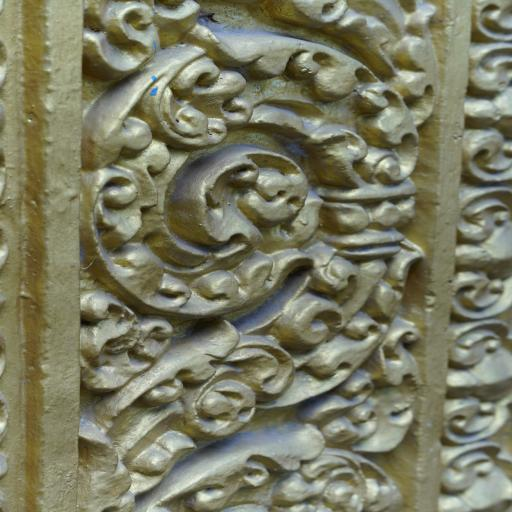la: (77, 0, 432, 331), (74, 305, 428, 512), (441, 175, 512, 321), (445, 317, 512, 448), (466, 34, 512, 186), (440, 425, 511, 512)
